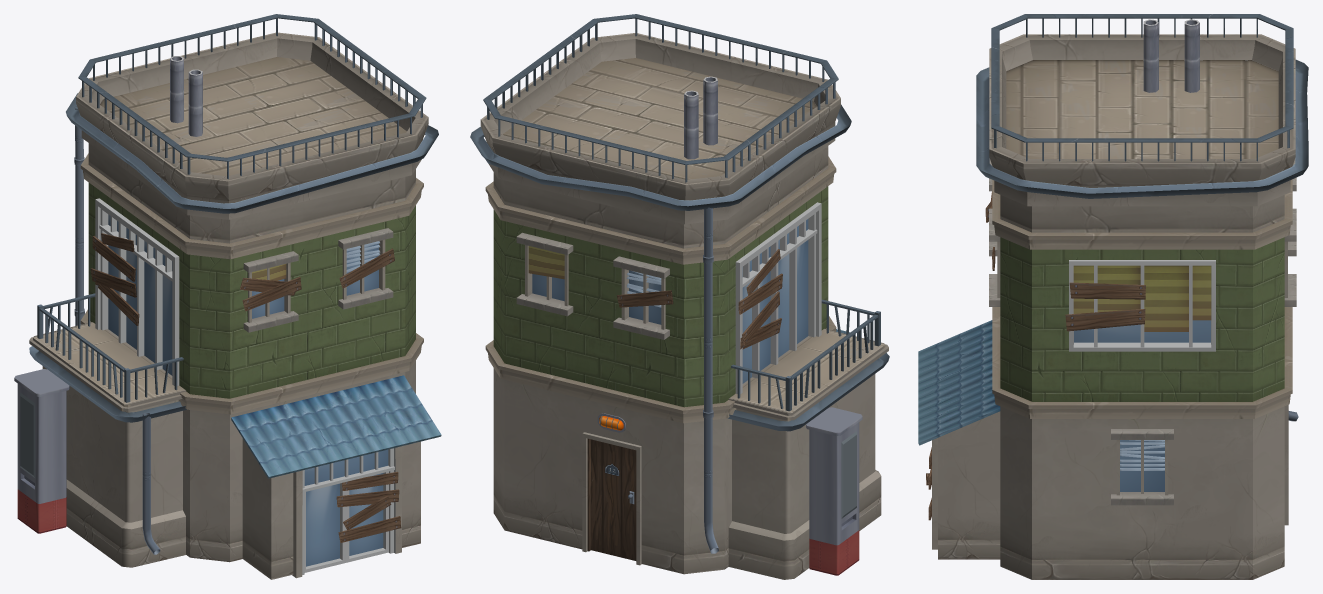
File: Building_02_4_LOD1.fbx
The picture shows the model from 3 angles, left to right: view 1: azimuth 30°, elevation 25°; view 2: azimuth 150°, elevation 25°; view 3: azimuth 270°, elevation 25°; orthographic projection. The views are drawn at different scales.
Parts seen in each view (by area): view 1: polySurface3671; view 2: polySurface3671; view 3: polySurface3671.
Boxes of the visible parts, x1,y1,x2,y2 form: polySurface3671: [14, 14, 441, 579]; polySurface3671: [470, 14, 889, 579]; polySurface3671: [918, 14, 1308, 579].
Bounding box in the file's own units: 736 × 896 × 673.
